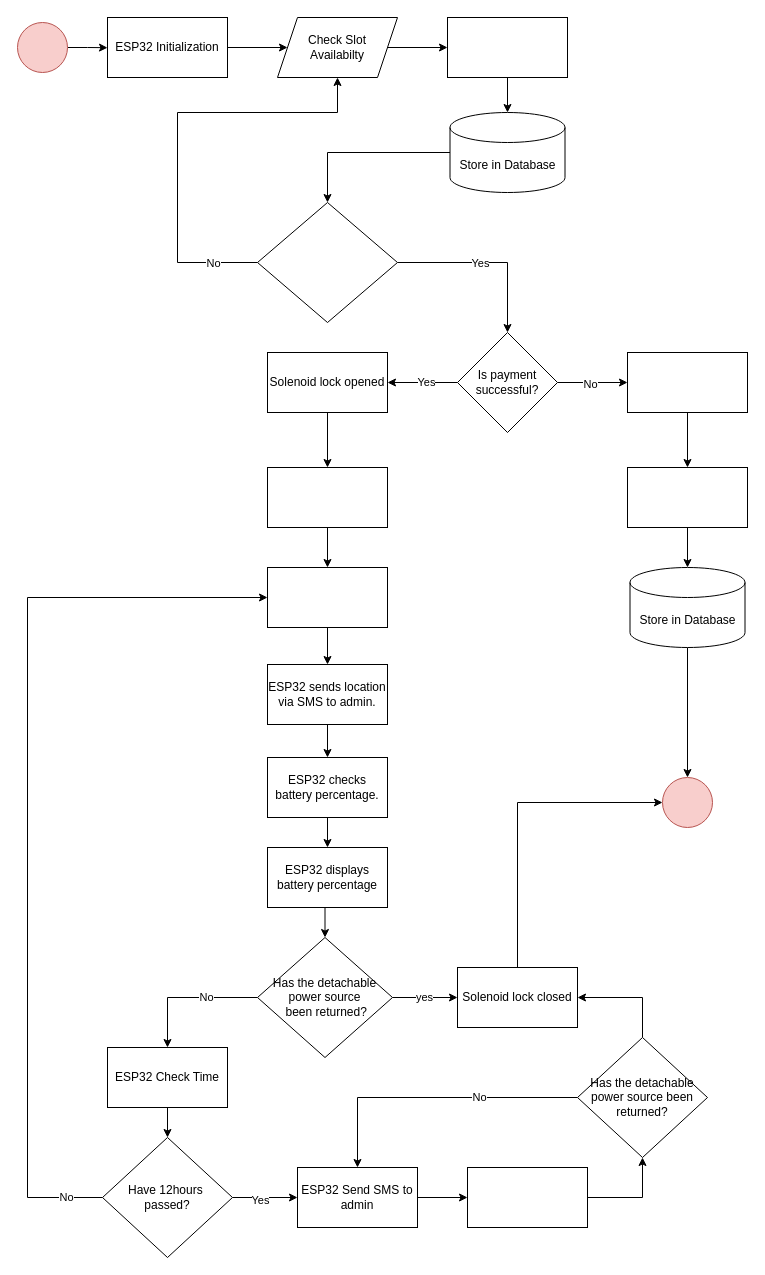
The diagram is 765 pixels wide and 1275 high, and some of its shapes have lost their labels. The centre of each missing label's shape, as x and y in pixels:
"Detachable power source is rented" belongs at (x=327, y=497).
"Display Error" belongs at (x=687, y=382).
"ESP32 checks GPS" belongs at (x=327, y=597).
"ESP32 Send SMS to user" belongs at (x=527, y=1197).
"Send data via Internet" belongs at (x=507, y=47).
"Send Error through Internet" belongs at (x=687, y=497).
"Someone wants to pay?" belongs at (x=327, y=262).
